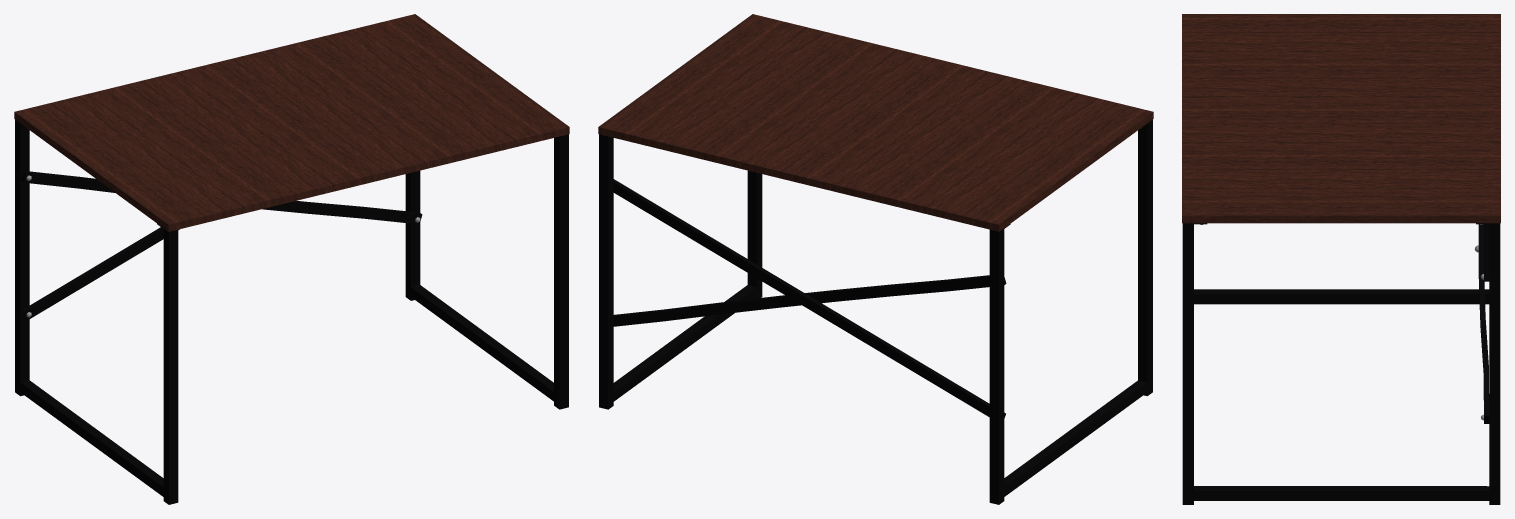
File: table.obj
The picture shows the model from 3 angles, left to right: view 1: azimuth 30°, elevation 25°; view 2: azimuth 150°, elevation 25°; view 3: azimuth 270°, elevation 25°; orthographic projection. The views are drawn at different scales.
Visible parts, largest first — view 1: Wood_Plane, metal_Plane.001; view 2: Wood_Plane, metal_Plane.001; view 3: Wood_Plane, metal_Plane.001.
Boxes of the visible parts, x1,y1,x2,y2 form: Wood_Plane: [14, 14, 569, 231]; metal_Plane.001: [15, 119, 568, 504]; Wood_Plane: [598, 14, 1153, 231]; metal_Plane.001: [599, 119, 1152, 504]; Wood_Plane: [1182, 14, 1500, 223]; metal_Plane.001: [1182, 223, 1500, 504].
Size of what is drawn, in the model's own units: 0.8998 by 0.6012 by 0.6003.
3 materials, 2 textured.
